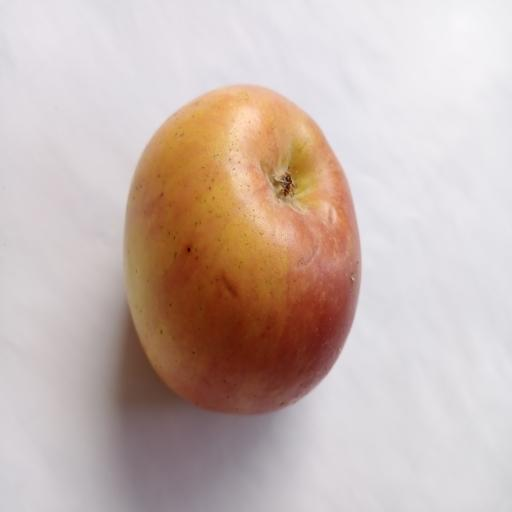apple-ripe: (120, 74, 366, 439)
